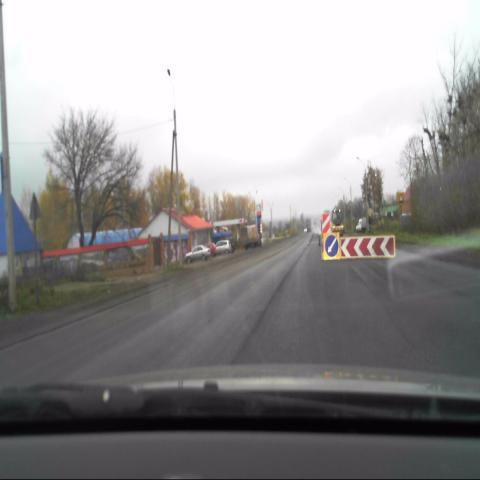4_2_2: (324, 233, 340, 260)
